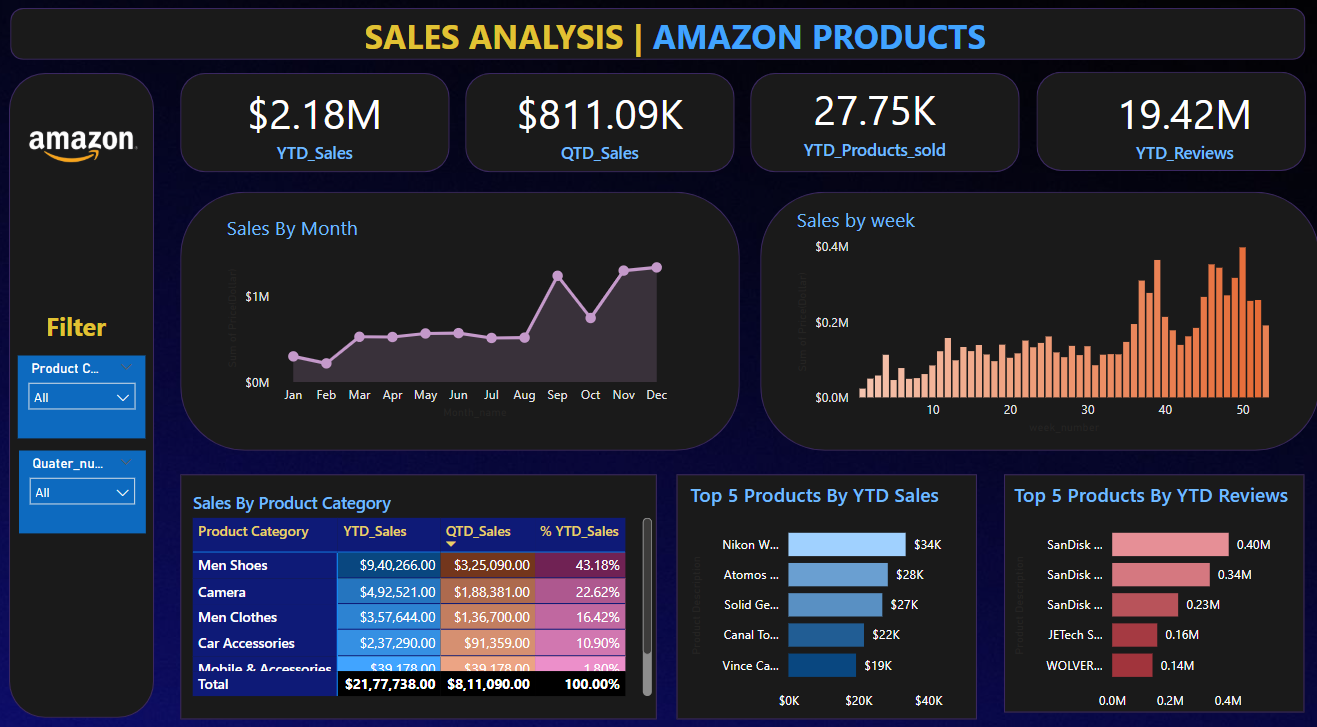

Layout of this report page (visuals, bound fields, positions):
{"tool":"powerbi","page":{"name":"Page 1","canvas":[1280,720],"ordinal":0},"visuals":[{"type":"shape","box":[1005.7,75.7,260,95.7],"z":0},{"type":"shape","box":[16,14,1250,50],"z":1000},{"type":"shape","box":[15,77.5,140,622.5],"z":3000},{"type":"shape","box":[180,77.1,260,95.7],"z":4000},{"type":"shape","box":[455.2,77.1,260,95.7],"z":5000},{"type":"card","fields":{"Values":["Amazon_Data.YTD_Sales"]},"box":[180,78.3,260,95],"z":6000},{"type":"shape","box":[730.5,77.1,260,95.7],"z":7000},{"type":"card","fields":{"Values":["Amazon_Data.QTD_Sales"]},"box":[455,78.3,260,95],"z":8000},{"type":"card","fields":{"Values":["Amazon_Data.YTD_Products_sold"]},"box":[720,75,260,95],"z":9000},{"type":"card","fields":{"Values":["Amazon_Data.YTD_Reviews"]},"box":[1528.6,78.6,260,95.7],"z":10000},{"type":"card","fields":{"Values":["Amazon_Data.YTD_Reviews"]},"box":[1020,78.3,260,95],"z":11000},{"type":"shape","box":[180,191.7,540,250],"z":12000},{"type":"areaChart","title":"Sales By Month","fields":{"Category":["Date table.Month_name"],"Y":["Sum(Amazon_Data.Price(Dollar))"]},"box":[220,214,438,202],"z":13000},{"type":"shape","box":[740,192,540,250],"z":14000},{"type":"columnChart","title":"Sales by week","fields":{"Category":["Date table.week_number"],"Y":["Sum(Amazon_Data.Price(Dollar))"]},"box":[770,206,470,224],"z":15000},{"type":"shape","box":[180,465,460,236.7],"z":16000},{"type":"pivotTable","title":"Sales By Product Category","fields":{"Values":["Amazon_Data.YTD_Sales1","Amazon_Data.QTD_Sales","Amazon_Data.YTD_Sales"],"Rows":["Amazon_Data.Product Category"]},"box":[186.7,480,453.3,203.3],"z":17000},{"type":"shape","box":[658.3,465,290,236.7],"z":18000},{"type":"shape","box":[975,465,290,230],"z":19000},{"type":"clusteredBarChart","title":"Top 5 Products By YTD Sales","fields":{"Category":["Amazon_Data.Product Description"],"Y":["Amazon_Data.YTD_Sales"]},"box":[666.7,471.7,275,230],"z":20000},{"type":"clusteredBarChart","title":"Top 5 Products By YTD Reviews","fields":{"Category":["Amazon_Data.Product Description"],"Y":["Amazon_Data.YTD_Reviews"]},"box":[980,471.7,275,230],"z":21000},{"type":"slicer","fields":{"Values":["Amazon_Data.Product Category"]},"box":[23.3,350,123.3,80],"z":22000},{"type":"slicer","fields":{"Values":["Date table.Quater_number"]},"box":[24,442,122,80],"z":23000},{"type":"image","box":[0,64,168,168],"z":24000},{"type":"textbox","box":[24,300,110,50],"z":25000},{"type":"textbox","box":[50,14,1216,74],"z":25001}]}

Visuals, with their boxes in screenshot pixels (x1, y1, x2, y2), scaled from the page's 1280x720 canvas onto the 1317x727 screenshot:
shape: [1035,76,1302,173]
shape: [16,14,1303,65]
shape: [15,78,159,707]
shape: [185,78,453,174]
shape: [468,78,736,174]
card - Amazon_Data.YTD_Sales: [185,79,453,175]
shape: [752,78,1019,174]
card - Amazon_Data.QTD_Sales: [468,79,736,175]
card - Amazon_Data.YTD_Products_sold: [741,76,1008,172]
card - Amazon_Data.YTD_Reviews: [1049,79,1316,175]
shape: [185,194,741,446]
"Sales By Month" areaChart: [226,216,677,420]
shape: [761,194,1316,446]
"Sales by week" columnChart: [792,208,1276,434]
shape: [185,470,658,709]
"Sales By Product Category" pivotTable: [192,485,658,690]
shape: [677,470,976,709]
shape: [1003,470,1302,702]
"Top 5 Products By YTD Sales" clusteredBarChart: [686,476,969,709]
"Top 5 Products By YTD Reviews" clusteredBarChart: [1008,476,1291,709]
slicer - Amazon_Data.Product Category: [24,353,151,434]
slicer - Date table.Quater_number: [25,446,150,527]
image: [0,65,173,234]
textbox: [25,303,138,353]
textbox: [51,14,1303,89]
